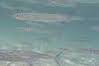sayori: (9, 10, 85, 28)
